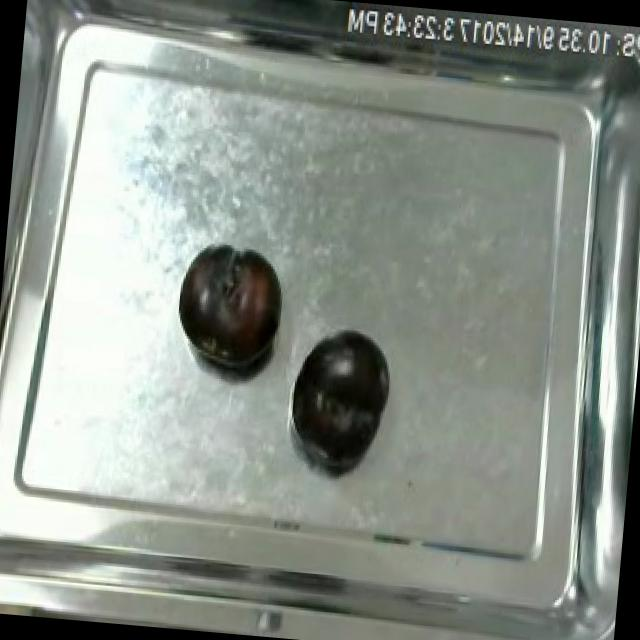Fruit: (172, 236, 292, 374), (286, 330, 394, 462)
